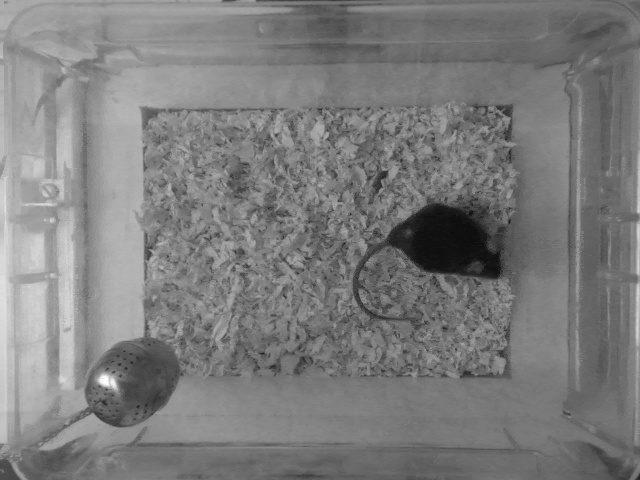mice: (348, 202, 505, 323)
